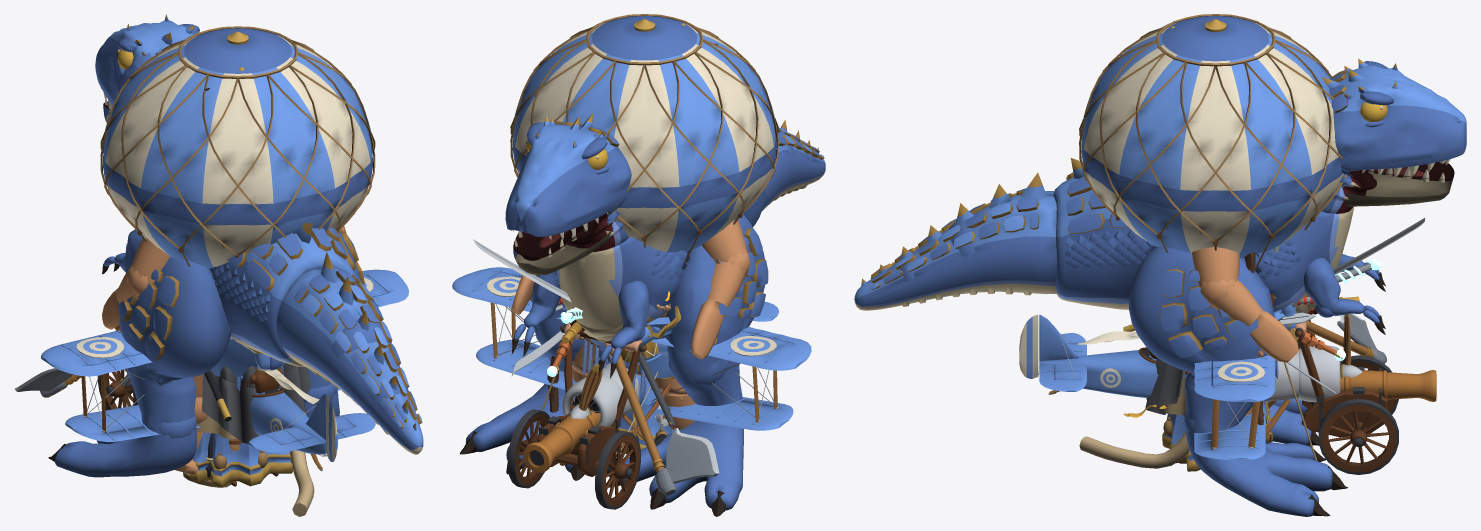
File: figures-c290ae47.glb
3 renders of one model, left to right at view 1: azimuth 30°, elevation 25°; view 2: azimuth 150°, elevation 25°; view 3: azimuth 270°, elevation 25°, orthographic. The views are drawn at different scales.
Parts seen in each view (by area): view 1: balloon.torso, drake.torso, ogre.legL, ogre.torso, ogre.tail, ogre.footL, ogre.tail2, ogre.kneeL, ogre.head, mage.extra2, mage.cape2, ogre.tail3 (+13 smaller); view 2: balloon.torso, drake.torso, ogre.head, ogre.torso, ogre.legL, ogre.footL, gunner.wheels, viking.weapon, gunner.offhand, ogre.footR, ogre.jaw, gunner.extra (+21 smaller); view 3: balloon.torso, drake.torso, ogre.torso, ogre.head, ogre.legR, ogre.tail, ogre.footR, ogre.tail2, gunner.wheels, ogre.jaw, gunner.offhand, ogre.tail3 (+13 smaller).
Boxes of the visible parts, x1,y1,x2,y2 form: balloon.torso: (100, 26, 375, 268); drake.torso: (41, 269, 408, 471); ogre.legL: (118, 256, 230, 378); ogre.torso: (210, 223, 357, 366); ogre.tail: (277, 252, 391, 388); ogre.footL: (48, 421, 196, 477); ogre.tail2: (324, 311, 409, 414); ogre.kneeL: (130, 354, 196, 438); ogre.head: (95, 14, 194, 110); mage.extra2: (190, 432, 292, 487); mage.cape2: (202, 366, 310, 443); ogre.tail3: (366, 375, 423, 454); balloon.torso: (510, 14, 778, 263); drake.torso: (452, 267, 811, 440); ogre.head: (505, 113, 631, 252); ogre.torso: (556, 189, 764, 342); ogre.legL: (665, 214, 768, 385); ogre.footL: (606, 396, 743, 516); gunner.wheels: (507, 409, 640, 509); viking.weapon: (610, 352, 719, 495); gunner.offhand: (537, 324, 646, 476); ogre.footR: (460, 370, 584, 480); ogre.jaw: (513, 217, 613, 275); gunner.extra: (523, 410, 600, 472); balloon.torso: (1079, 14, 1347, 268); drake.torso: (1037, 314, 1340, 460); ogre.torso: (1053, 158, 1353, 313); ogre.head: (1321, 58, 1466, 213); ogre.legR: (1128, 246, 1276, 373); ogre.tail: (949, 172, 1057, 295); ogre.footR: (1186, 424, 1348, 516); ogre.tail2: (900, 203, 988, 300); gunner.wheels: (1318, 355, 1398, 474); ogre.jaw: (1343, 160, 1454, 206); gunner.offhand: (1295, 319, 1387, 437); ogre.tail3: (854, 246, 928, 310).
Bounding box in the file's own units: 1.69 × 2.01 × 2.57.
